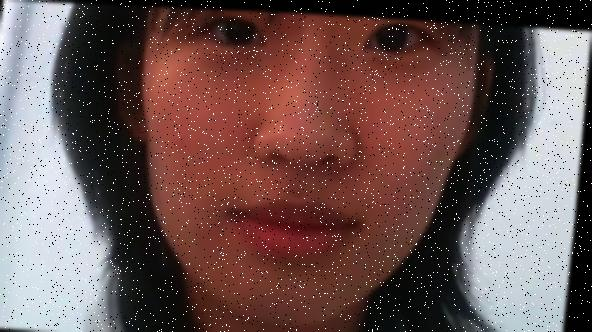eye: (377, 20, 407, 47), (224, 16, 254, 42)
iris: (362, 17, 428, 51), (202, 14, 268, 45)
